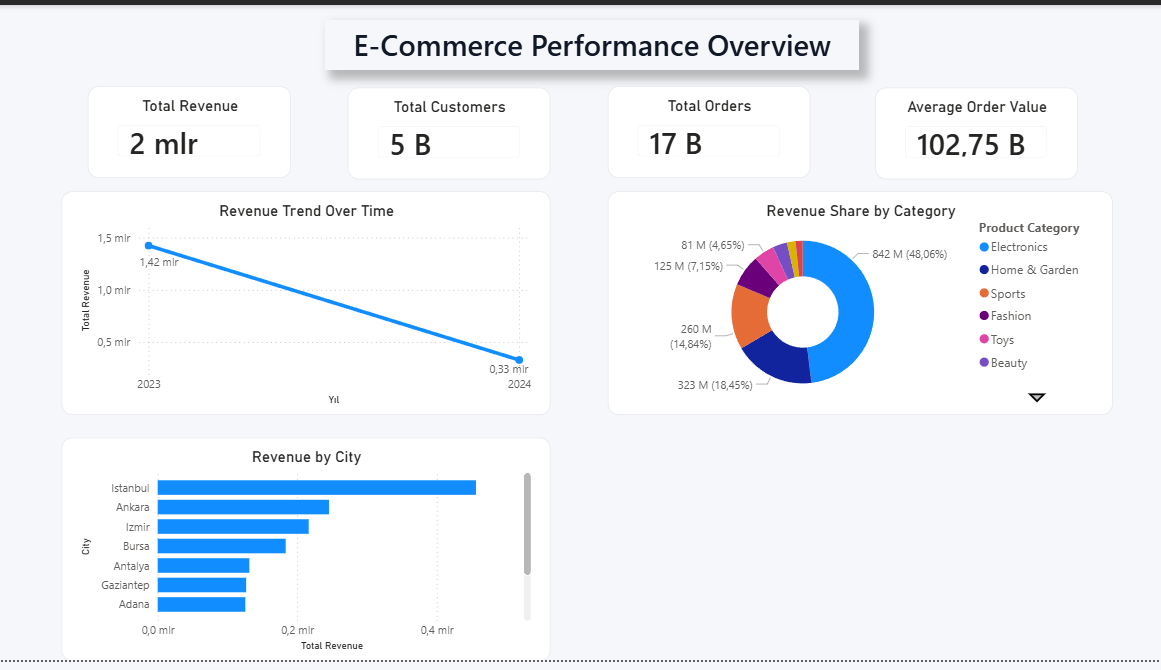

This screenshot's page, from the dashboard's own definition file:
{"tool":"powerbi","page":{"name":"Executive Dashboard","canvas":[1280,720],"ordinal":0},"visuals":[{"type":"textbox","title":"E-Commerce Performance Overview","box":[358.7,16.6,586.3,55.2],"z":0},{"type":"cardVisual","title":"Total Revenue","fields":{"Data":["cleaned_data.Total Amount"]},"box":[98,89.7,223.5,100.7],"z":1000},{"type":"cardVisual","title":"Total Customers","fields":{"Data":["cleaned_data.Total Customers"]},"box":[383.5,91.1,222.1,100.7],"z":2000},{"type":"cardVisual","title":"Total Orders","fields":{"Data":["cleaned_data.Total Orders"]},"box":[667.7,89.7,222.1,100.7],"z":3000},{"type":"cardVisual","title":"Average Order Value","fields":{"Data":["cleaned_data.AOV"]},"box":[961.6,91.1,222.1,100.7],"z":4000},{"type":"lineChart","title":"Revenue Trend Over Time","fields":{"Category":["cleaned_data.Date.Varyasyon.Tarih Hiyerarşisi.Yıl","cleaned_data.Date.Varyasyon.Tarih Hiyerarşisi.Çeyrek","cleaned_data.Date.Varyasyon.Tarih Hiyerarşisi.Ay","cleaned_data.Date.Varyasyon.Tarih Hiyerarşisi.Gün"],"Y":["cleaned_data.Total Revenue"]},"box":[69,204.2,536.7,245.6],"z":5000},{"type":"donutChart","title":"Revenue Share by Category","fields":{"Category":["cleaned_data.Product_Category"],"Y":["cleaned_data.Total Amount"]},"box":[667.7,204.2,554.6,245.6],"z":6000},{"type":"clusteredBarChart","title":"Revenue by City","fields":{"Category":["cleaned_data.City"],"Y":["cleaned_data.Total Revenue"]},"box":[69,474.6,536.7,245.6],"z":7000}]}

Visuals, with their boxes in screenshot pixels (x1, y1, x2, y2), scaled from the page's 1280x720 canvas onto the 1161x670 screenshot:
"E-Commerce Performance Overview" textbox: {"left": 325, "top": 15, "right": 857, "bottom": 67}
"Total Revenue" cardVisual: {"left": 89, "top": 83, "right": 292, "bottom": 177}
"Total Customers" cardVisual: {"left": 348, "top": 85, "right": 549, "bottom": 178}
"Total Orders" cardVisual: {"left": 606, "top": 83, "right": 807, "bottom": 177}
"Average Order Value" cardVisual: {"left": 872, "top": 85, "right": 1074, "bottom": 178}
"Revenue Trend Over Time" lineChart: {"left": 63, "top": 190, "right": 549, "bottom": 419}
"Revenue Share by Category" donutChart: {"left": 606, "top": 190, "right": 1109, "bottom": 419}
"Revenue by City" clusteredBarChart: {"left": 63, "top": 442, "right": 549, "bottom": 669}
